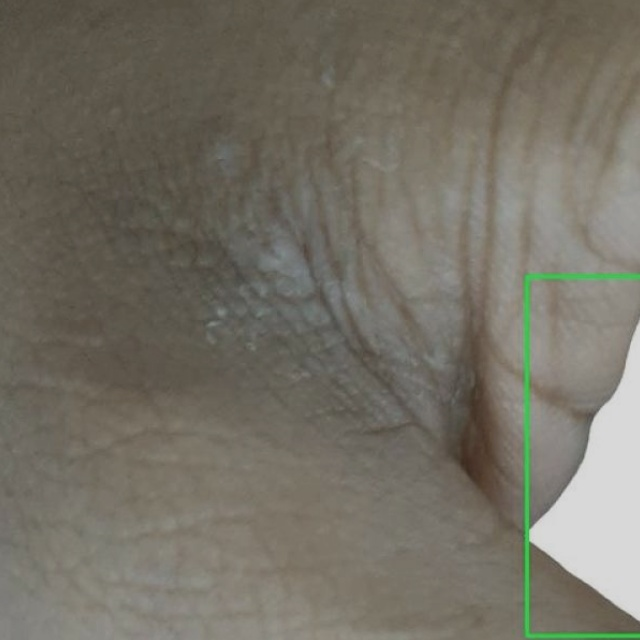Scabies: (527, 276, 639, 635)
